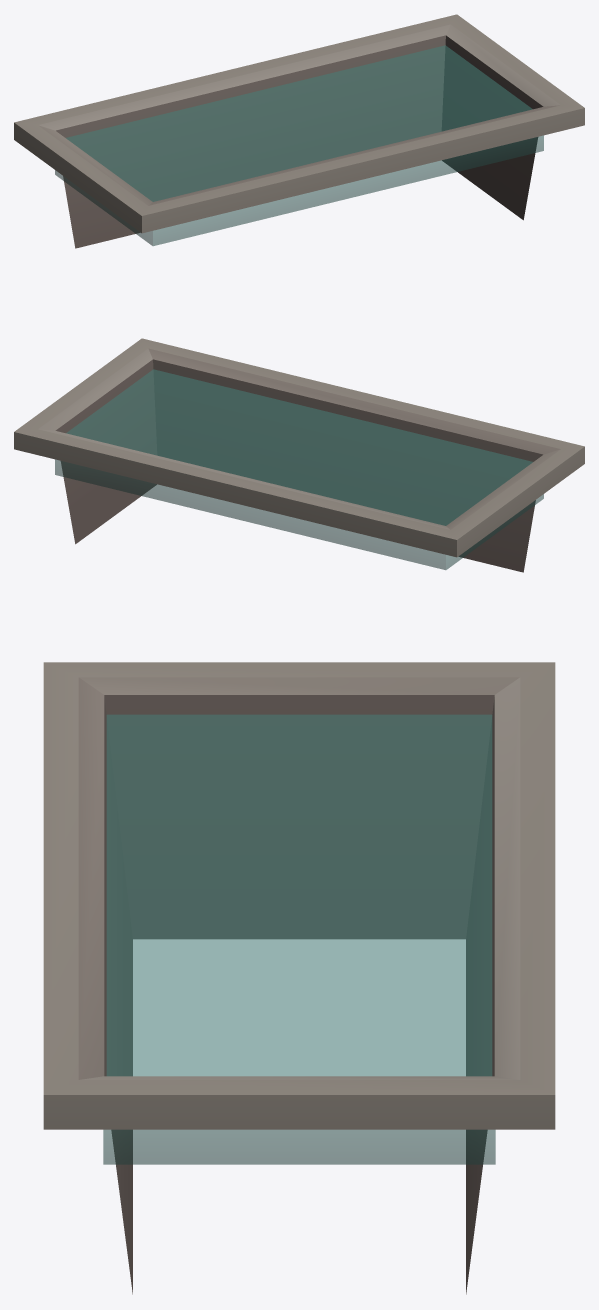
File: floor_water_channel_A.glb
3 renders of one model, top to bottom at view 1: azimuth 30°, elevation 25°; view 2: azimuth 150°, elevation 25°; view 3: azimuth 270°, elevation 25°, orthographic. The views are drawn at different scales.
Visible parts, largest first — view 1: Item; view 2: Item; view 3: Item.
Part boxes in pixels (x1,y1,x2,y2): Item: [14, 14, 584, 248]; Item: [14, 338, 584, 572]; Item: [43, 662, 555, 1294].
Bounding box in the file's own units: 4 × 1.03 × 2.
2 materials, 2 textured.
